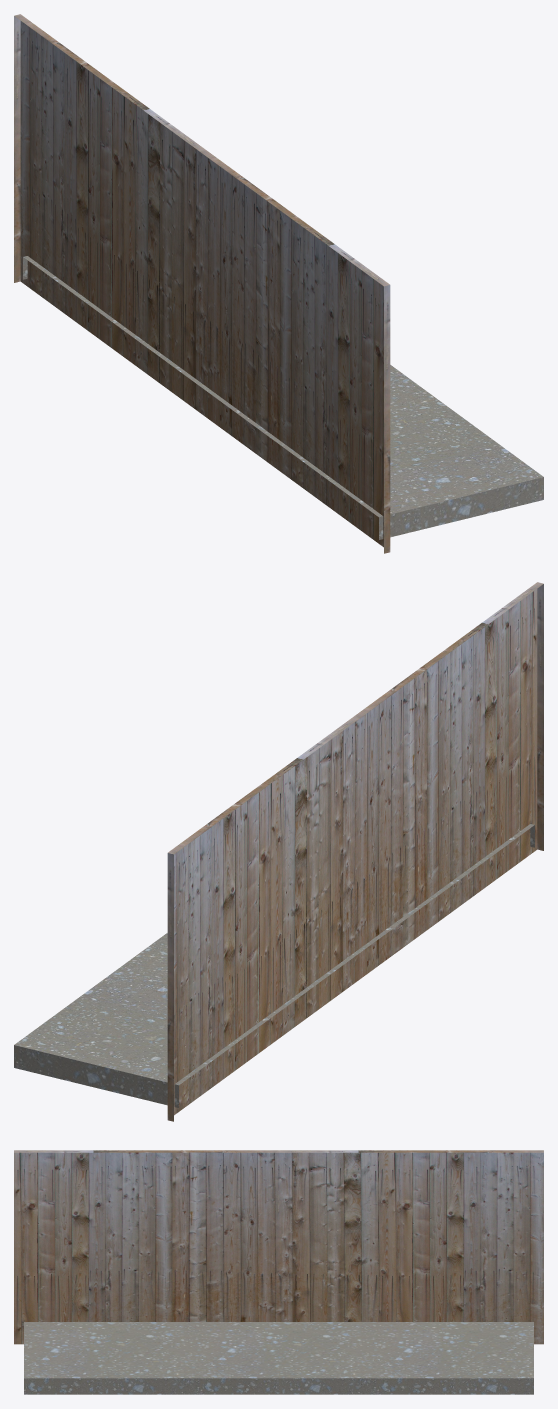
File: world01_ground03.glb
3 renders of one model, top to bottom at view 1: azimuth 30°, elevation 25°; view 2: azimuth 150°, elevation 25°; view 3: azimuth 270°, elevation 25°, orthographic. The views are drawn at different scales.
Parts seen in each view (by area): view 1: Prop.world01_ground03; view 2: Prop.world01_ground03; view 3: Prop.world01_ground03.
Part boxes in pixels (left/top/right/bottom): Prop.world01_ground03: left=14, top=14, right=543, bottom=553; Prop.world01_ground03: left=14, top=582, right=543, bottom=1121; Prop.world01_ground03: left=14, top=1150, right=543, bottom=1394.
Bounding box in the file's own units: 3.06 × 4.68 × 11.73.
2 materials, 2 textured.
